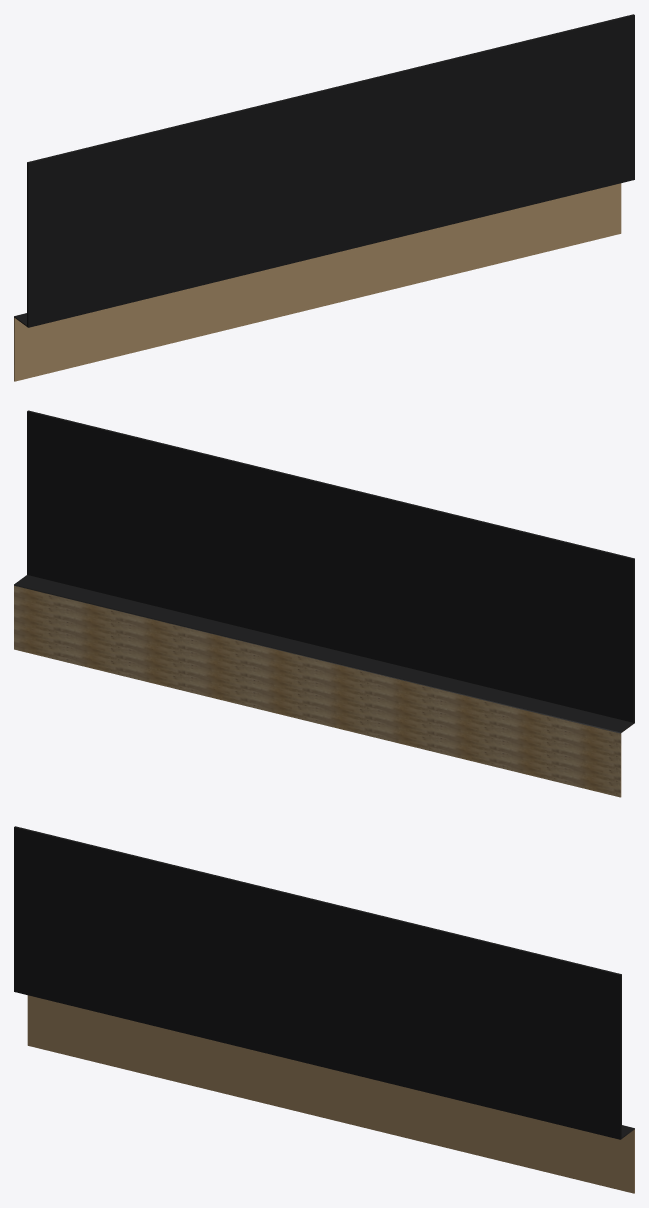
File: room_ceiling.obj
The picture shows the model from 3 angles, top to bottom: view 1: azimuth 30°, elevation 25°; view 2: azimuth 150°, elevation 25°; view 3: azimuth 330°, elevation 25°; orthographic projection.
Parts seen in each view (by area): view 1: paint_matte_0, paint_matte_7; view 2: paint_matte_0, paint_matte_texture_0, paint_matte_2, paint_matte_4; view 3: paint_matte_0, paint_matte_7.
Boxes of the visible parts, x1,y1,x2,y2 form: paint_matte_0: (14,14,634,327); paint_matte_7: (14,183,621,381); paint_matte_0: (14,410,634,732); paint_matte_texture_0: (14,585,620,797); paint_matte_2: (14,584,571,720); paint_matte_4: (69,599,620,733); paint_matte_0: (14,826,634,1139); paint_matte_7: (27,995,634,1193).
Size of the model in its own units: 26.83 by 9.66 by 1.1.
9 materials, 1 textured.
